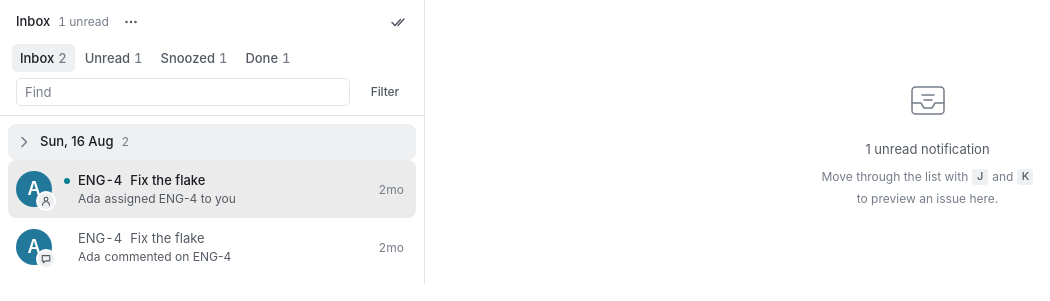
Test: the inbox tabs › filters to the right rows and counts them
Expected: the 1st text "2" is shown, [58, 52, 67, 64]
Expected: the 1st text "1" is shown, [134, 52, 142, 64]
Click the tab "Snoozed 1".
click(194, 58)  # box [152, 44, 235, 72]
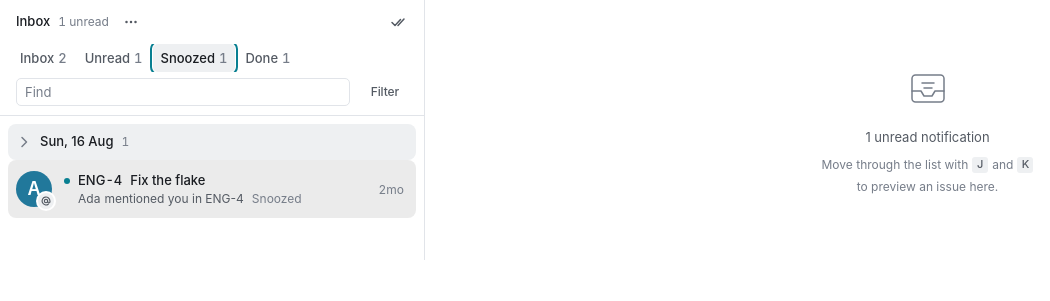
Now the option shows "mentioned you in ENG-4", box [8, 160, 416, 218]
Click the tab "Done 1".
click(268, 58)  # box [237, 44, 298, 72]
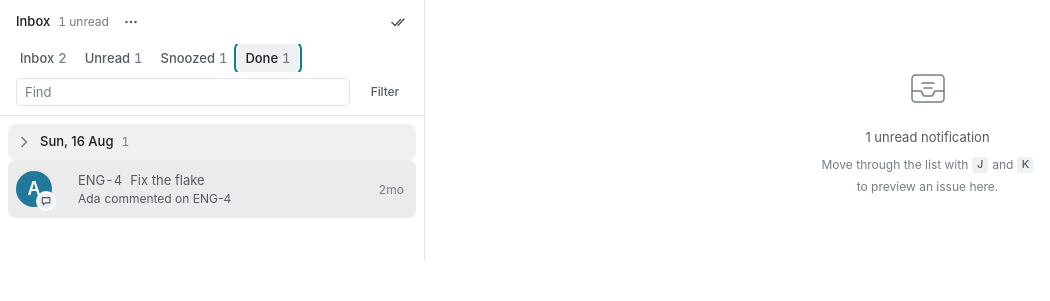
Now the option shows "commented on ENG-4", box [8, 160, 416, 218]
